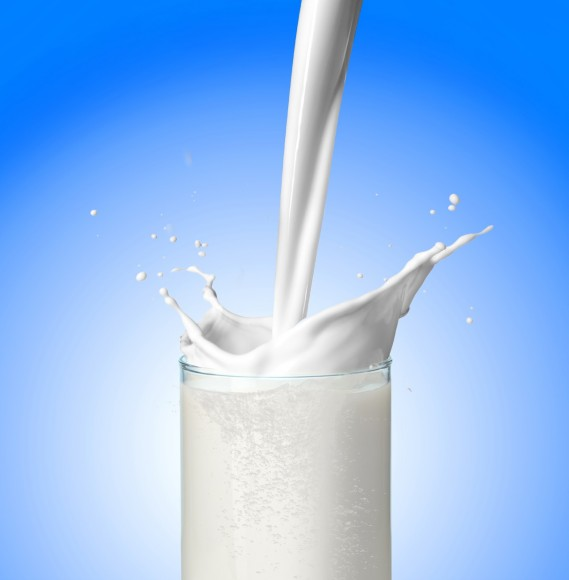glass of milk: (187, 317, 398, 570)
